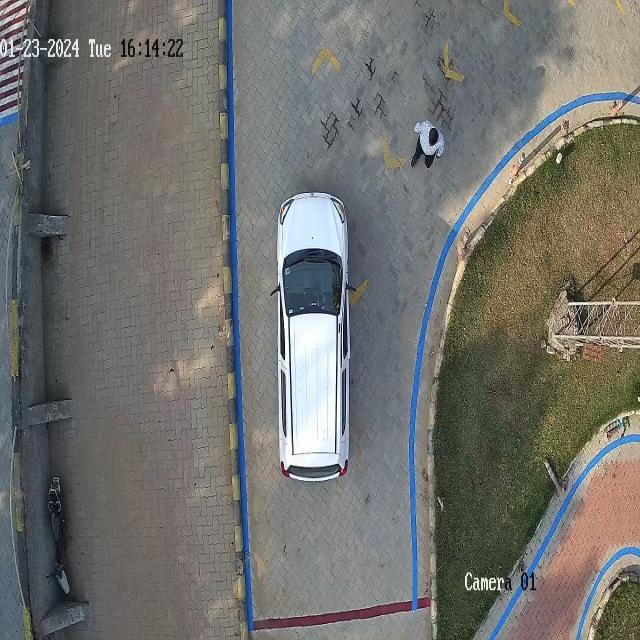car: (278, 192, 351, 484)
